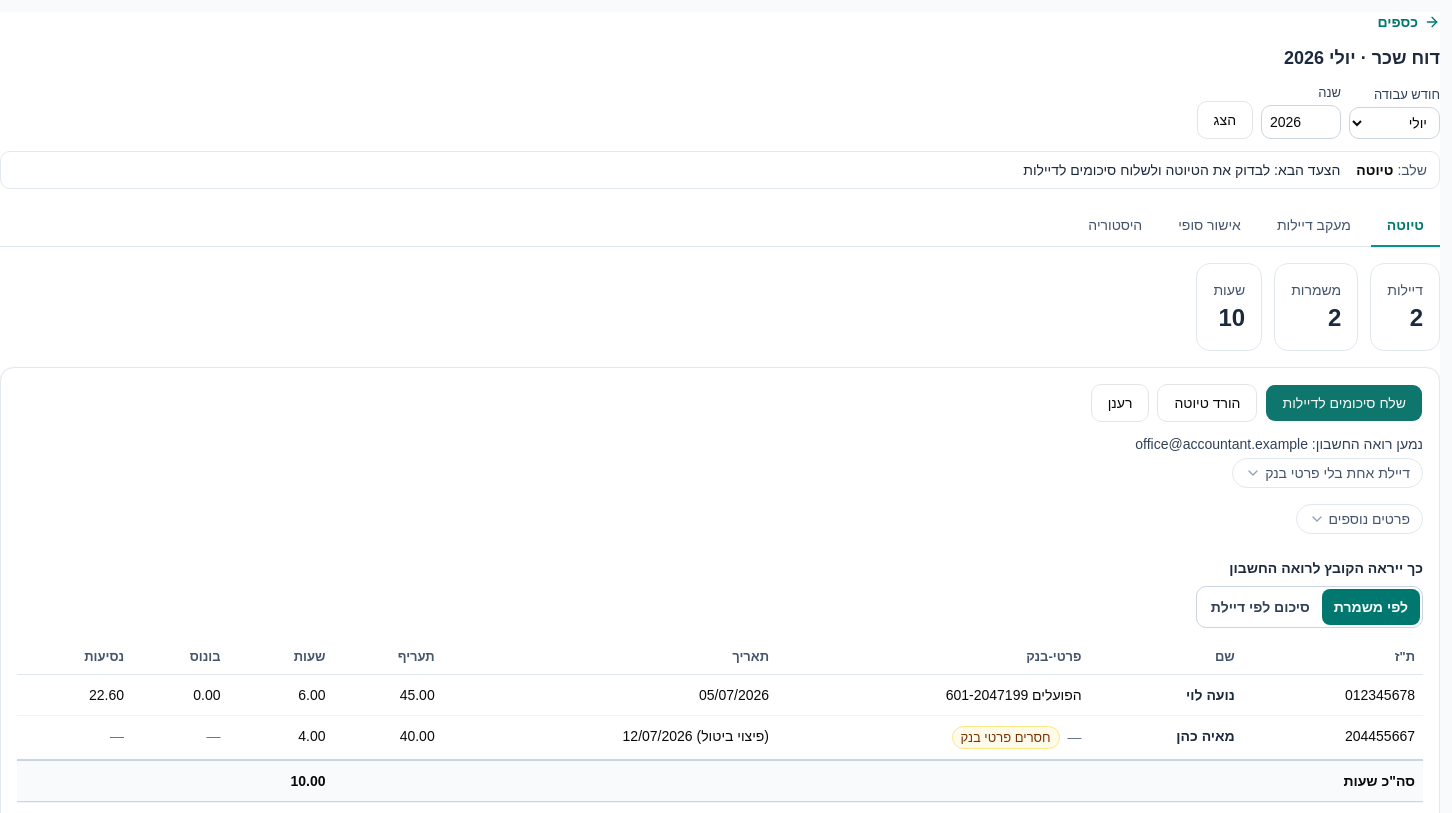
Test: מצב: טיוטה מוכנה › הורדת טיוטה נכשלה ⇒ הודעה קבועה, בלי טוסט הצלחה
The width and height of the screenshot is (1452, 813).
Click the button with test id "payroll-download-draft" at (1207,403), box [1157,384,1258,422]
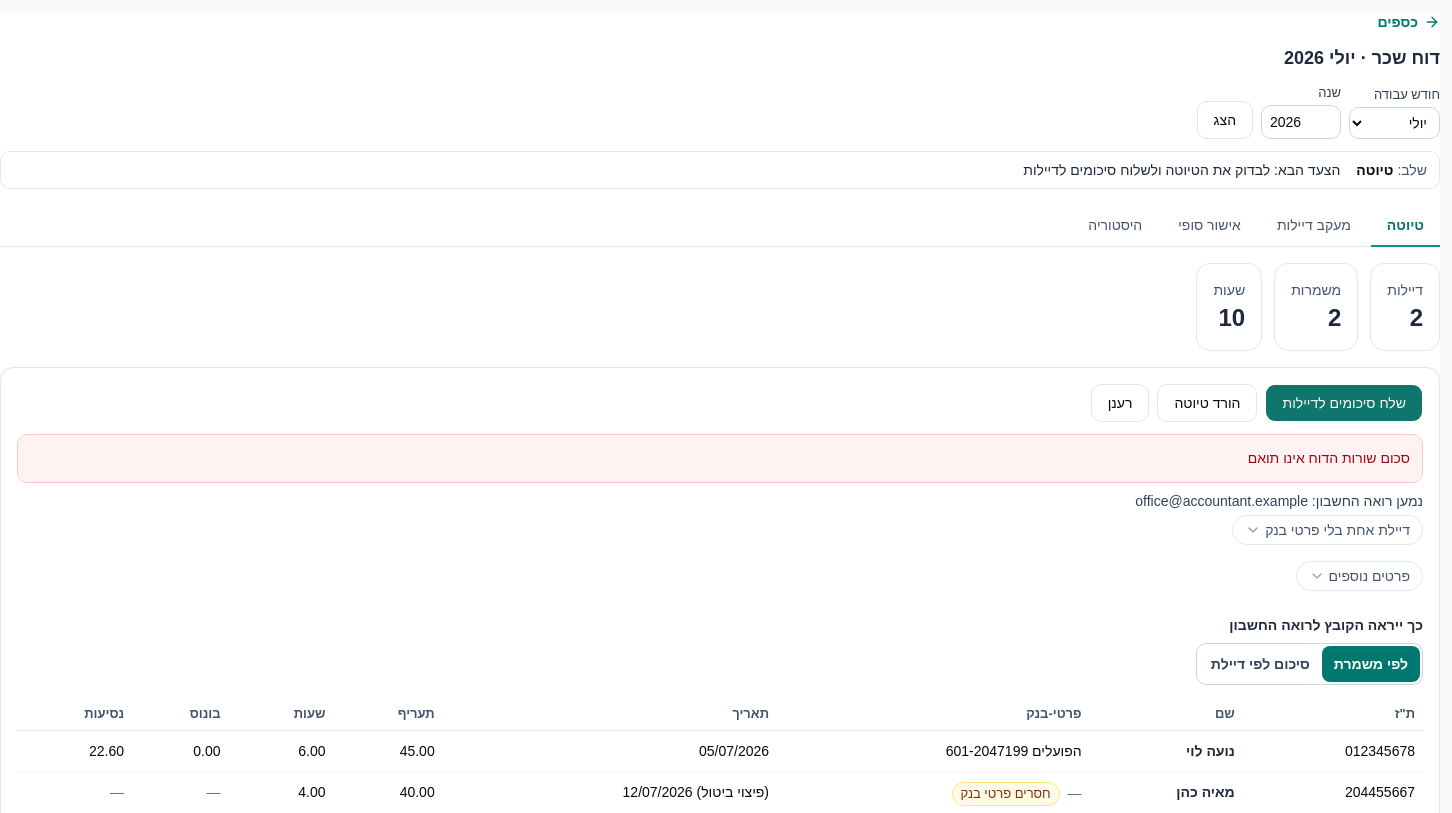
Now the message with test id "payroll-download-error" shows "אינו תואם", box [1248,450,1410,466]
